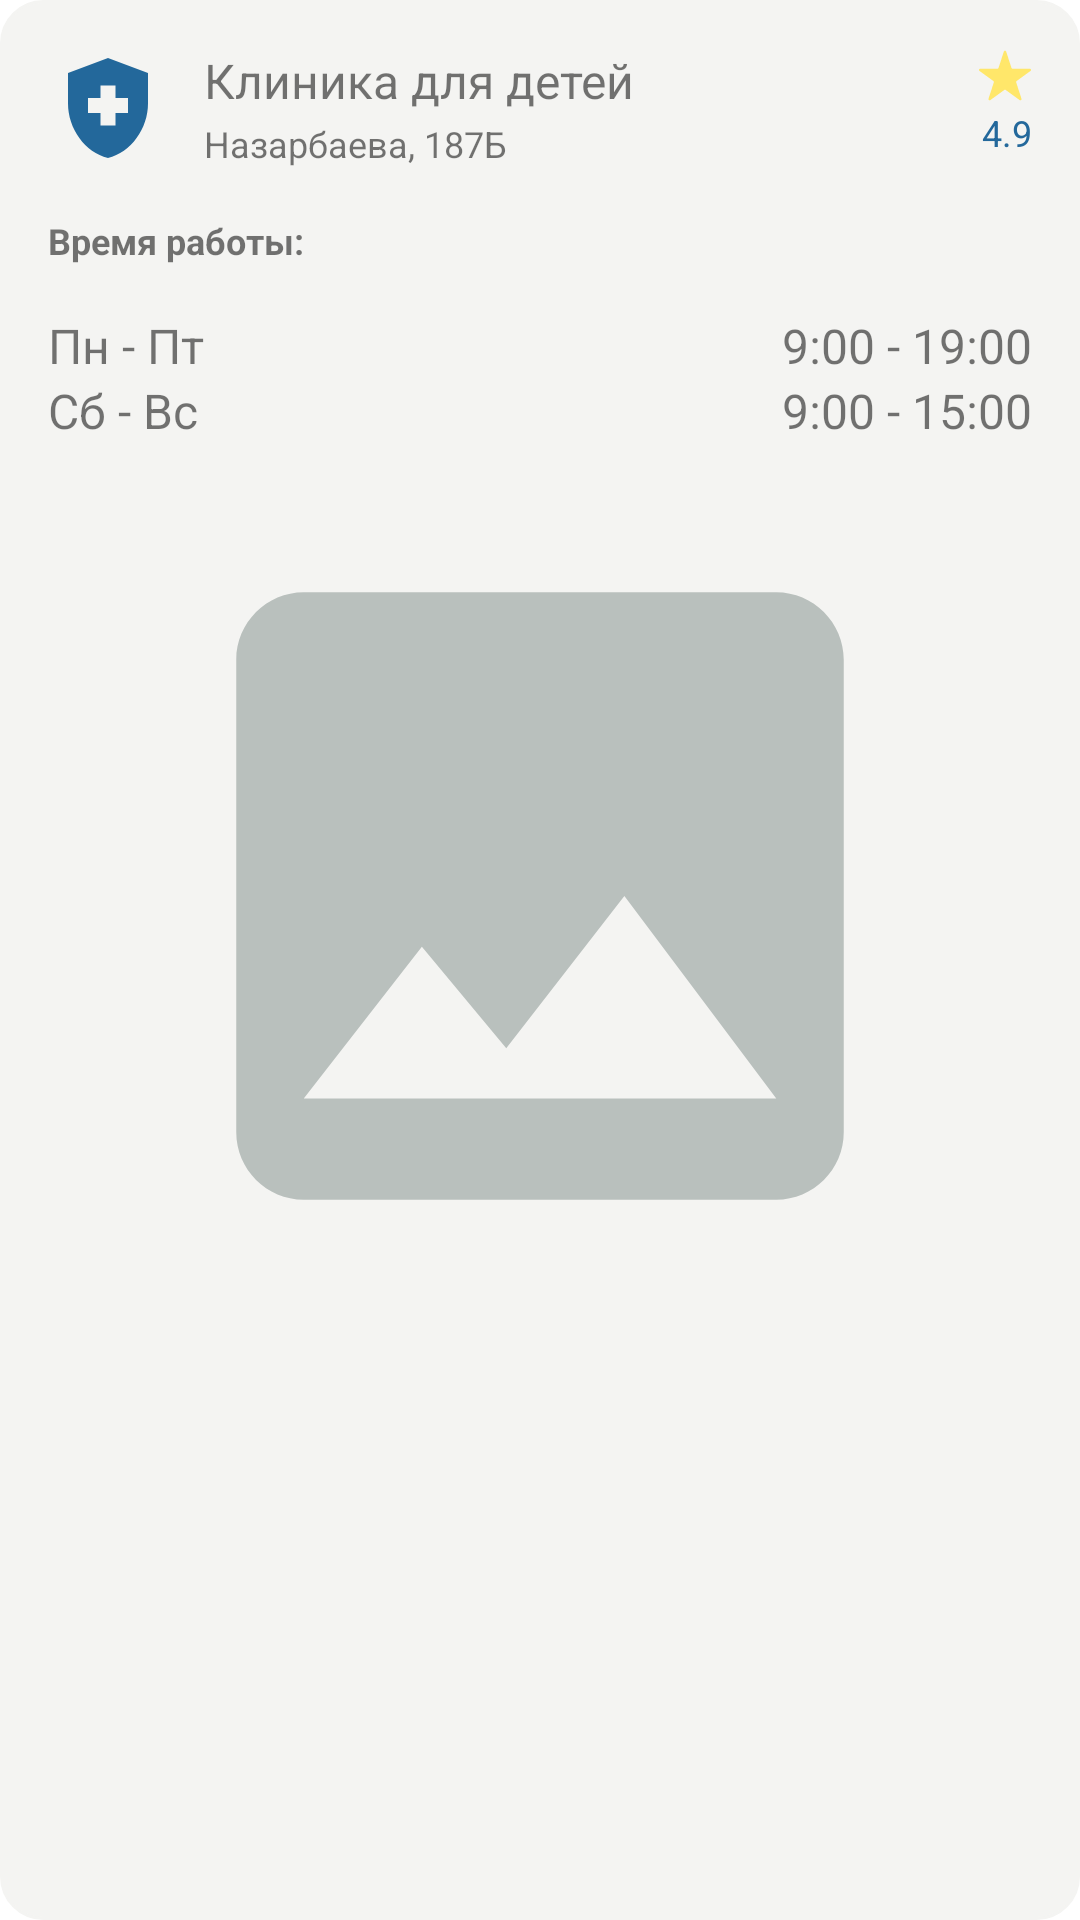

Named icons in this screenshot (1080px x 1920px) and their centers, (x,y):
health and safety: (108,108)
